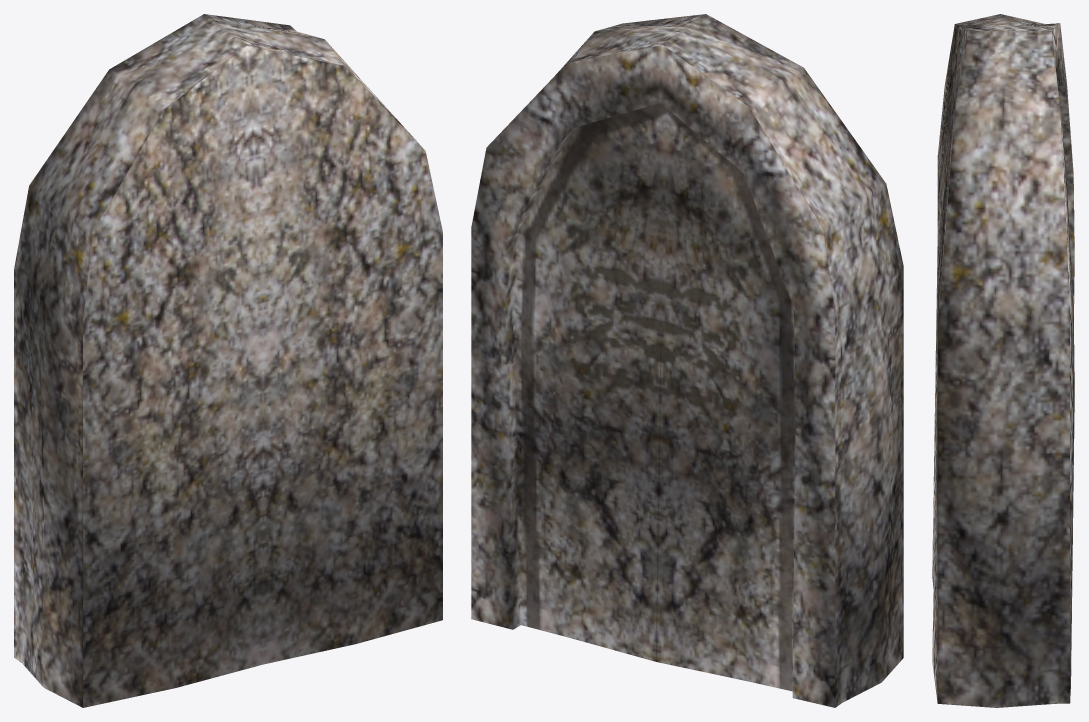
Rendered from grave_single.glb.
3 renders of one model, left to right at view 1: azimuth 30°, elevation 25°; view 2: azimuth 150°, elevation 25°; view 3: azimuth 270°, elevation 25°, orthographic. The views are drawn at different scales.
Parts seen in each view (by area): view 1: gravestone; view 2: gravestone; view 3: gravestone.
Boxes of the visible parts, x1,y1,x2,y2 form: gravestone: [14, 14, 442, 707]; gravestone: [471, 14, 903, 707]; gravestone: [932, 14, 1074, 707].
Bounding box in the file's own units: 1.3 × 2 × 0.4395.
Materials: 1 (1 with a texture image).
